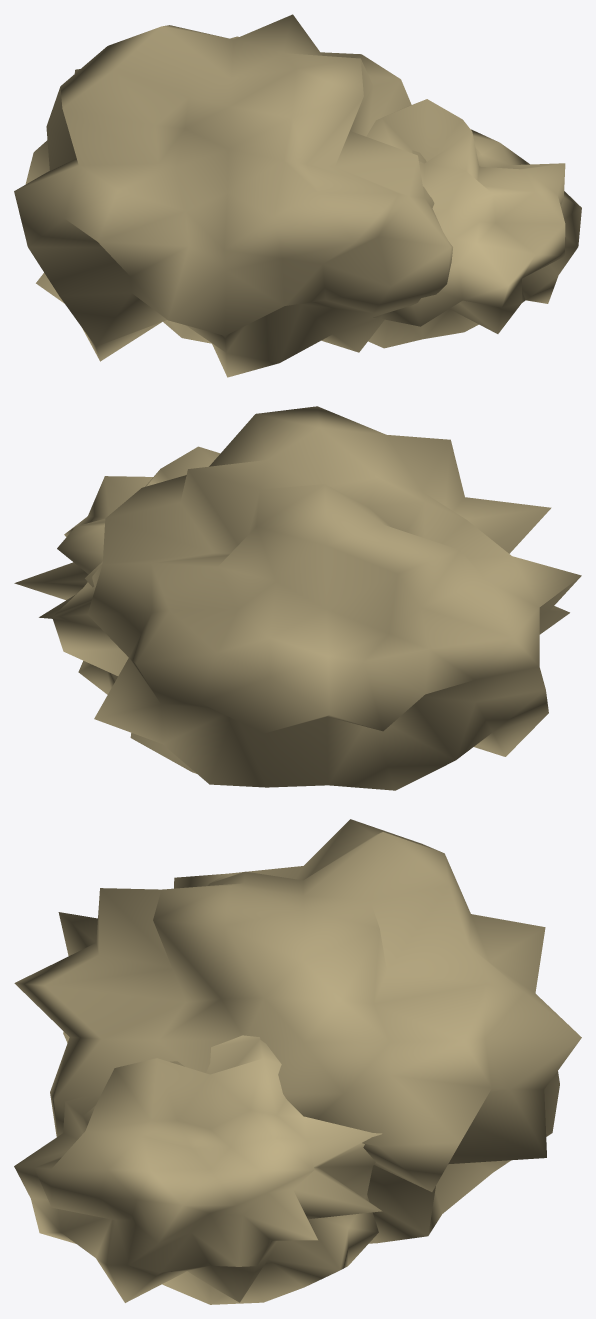
File: dry-bush.gltf
3 views of the same model, one above another, from view 1: azimuth 30°, elevation 25°; view 2: azimuth 150°, elevation 25°; view 3: azimuth 270°, elevation 25° (orthographic). The views are drawn at different scales.
Visible parts, largest first — view 1: dry-bush; view 2: dry-bush; view 3: dry-bush.
Part boxes in pixels (x1,y1,x2,y2): dry-bush: [14, 14, 581, 377]; dry-bush: [14, 406, 581, 790]; dry-bush: [14, 819, 581, 1304].
Size of the model in its own units: 1.44 by 0.8502 by 1.22.
